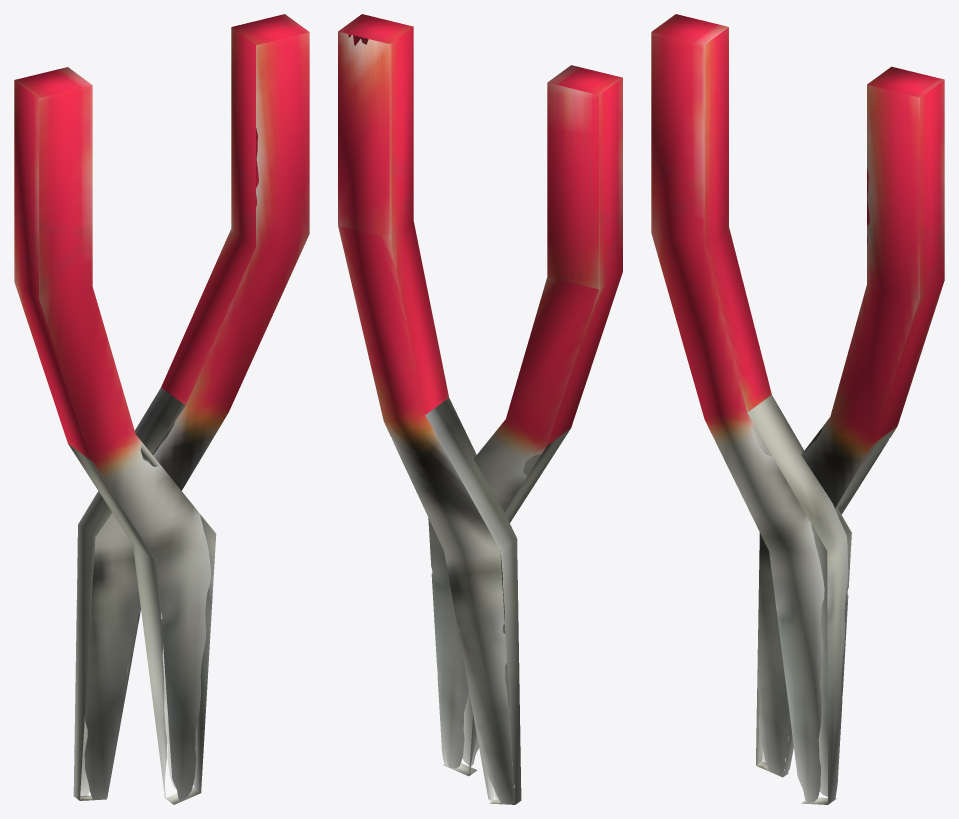
Rendered from wire_cutters.FBX.
3 views of the same model, side by side, from view 1: azimuth 30°, elevation 25°; view 2: azimuth 150°, elevation 25°; view 3: azimuth 330°, elevation 25° (orthographic). The views are drawn at different scales.
Visible parts, largest first — view 1: wire_cutters; view 2: wire_cutters; view 3: wire_cutters.
Part boxes in pixels (x1,y1,x2,y2): wire_cutters: (14, 14, 309, 804); wire_cutters: (338, 14, 622, 804); wire_cutters: (651, 14, 944, 804).
Bounding box in the file's own units: 10.35 × 27.39 × 2.92.
